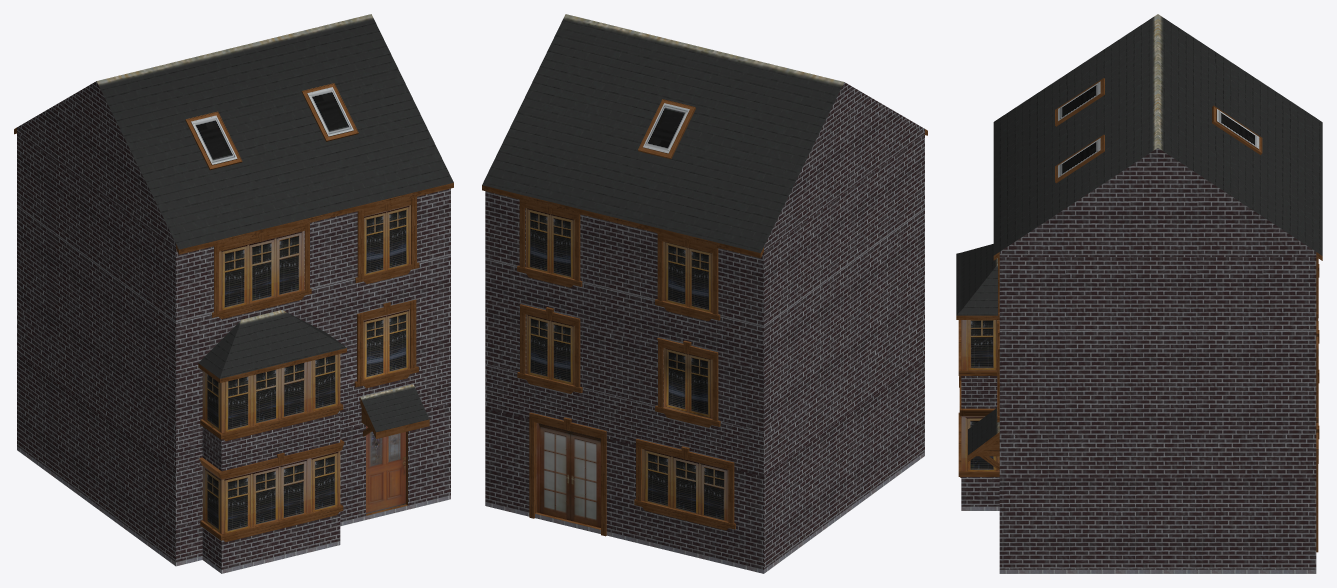
The model's file is modernterrace3story3c.FBX.
The picture shows the model from 3 angles, left to right: view 1: azimuth 30°, elevation 25°; view 2: azimuth 150°, elevation 25°; view 3: azimuth 270°, elevation 25°; orthographic projection.
Parts seen in each view (by area): view 1: Box001; view 2: Box001; view 3: Box001.
Boxes of the visible parts, x1,y1,x2,y2 form: Box001: (14,14,453,573); Box001: (482,14,927,573); Box001: (956,14,1322,573).
Size of the model in its own units: 800 by 1188 by 925.
